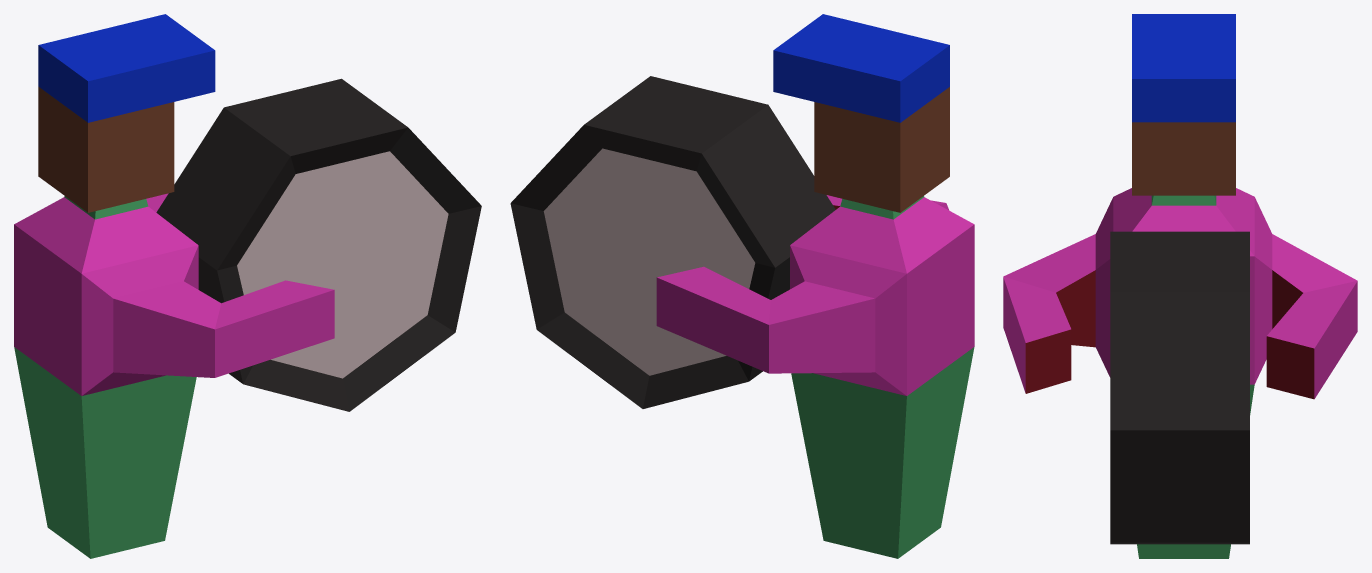
3 views of the same model, side by side, from view 1: azimuth 30°, elevation 25°; view 2: azimuth 150°, elevation 25°; view 3: azimuth 270°, elevation 25° (orthographic). The views are drawn at different scales.
Visible parts, largest first — view 1: p1.001; view 2: p1.001; view 3: p1.001.
Boxes of the visible parts, x1=… form: p1.001: x1=14, y1=14, x2=481, y2=558; p1.001: x1=510, y1=14, x2=974, y2=558; p1.001: x1=1003, y1=14, x2=1357, y2=558.
Bounding box in the file's own units: 49.67 × 57.3 × 36.53.
